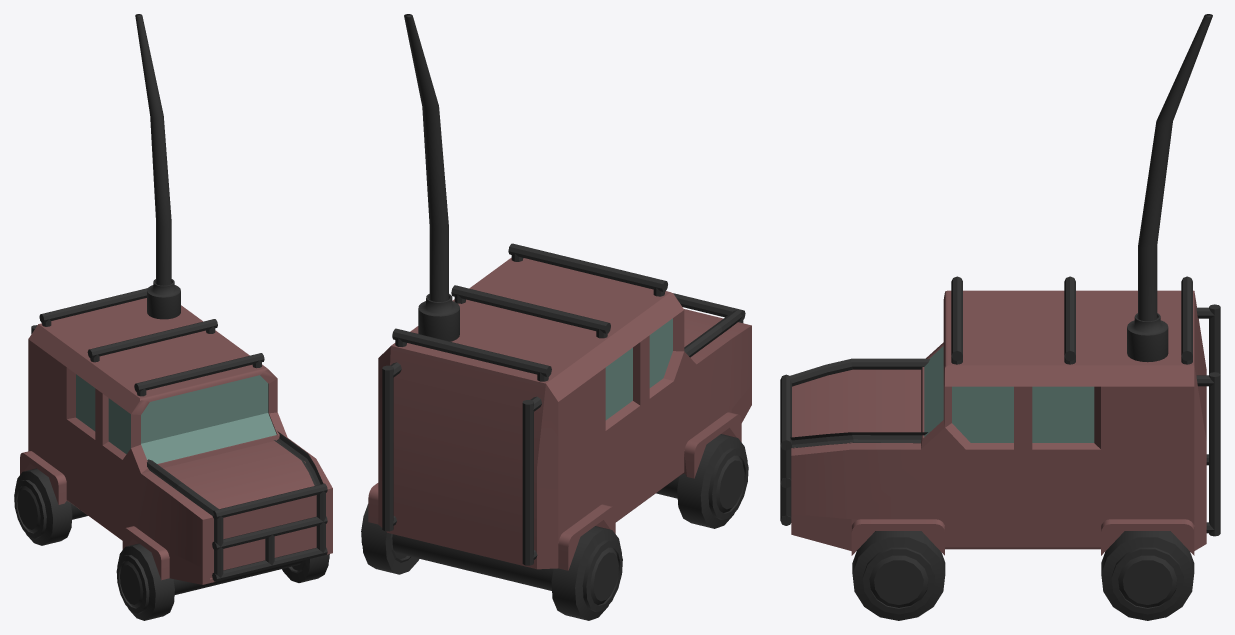
File: car.fbx
The picture shows the model from 3 angles, left to right: view 1: azimuth 30°, elevation 25°; view 2: azimuth 150°, elevation 25°; view 3: azimuth 270°, elevation 25°; orthographic projection. The views are drawn at different scales.
Visible parts, largest first — view 1: Chassis, pCylinder31, Tire BackRight, Tire FrontRight, pCylinder20, pCylinder19, pCylinder12, pCylinder22, pCylinder6, pCylinder5, Tire FrontLeft, pCylinder13 (+2 smaller); view 2: Chassis, pCylinder31, Tire FrontRight, Tire BackRight, pCylinder29, pCylinder27, pCylinder28, pCylinder19, pCylinder20, pCylinder22, Tire BackLeft, pCylinder13 (+1 smaller); view 3: Chassis, pCylinder31, Tire BackLeft, Tire FrontLeft, pCylinder28, pCylinder13, pCylinder14, pCylinder27, pCylinder20, pCylinder22, pCylinder19, pCylinder12.
Boxes of the visible parts, left/top/right/bottom form: Chassis: left=20, top=298, right=332, bottom=584; pCylinder31: left=135, top=14, right=180, bottom=319; Tire BackRight: left=14, top=468, right=72, bottom=545; Tire FrontRight: left=116, top=543, right=174, bottom=620; pCylinder20: left=87, top=319, right=217, bottom=358; pCylinder19: left=134, top=353, right=264, bottom=392; pCylinder12: left=212, top=483, right=327, bottom=519; pCylinder22: left=39, top=288, right=147, bottom=322; pCylinder6: left=212, top=516, right=327, bottom=550; pCylinder5: left=212, top=547, right=327, bottom=581; Tire FrontLeft: left=282, top=554, right=329, bottom=582; pCylinder13: left=147, top=459, right=218, bottom=515; Chassis: left=368, top=257, right=751, bottom=570; pCylinder31: left=404, top=14, right=459, bottom=341; Tire FrontRight: left=677, top=434, right=748, bottom=528; Tire BackRight: left=551, top=526, right=622, bottom=620; pCylinder29: left=392, top=534, right=553, bottom=590; pCylinder27: left=522, top=396, right=541, bottom=565; pCylinder28: left=382, top=362, right=401, bottom=531; pCylinder19: left=508, top=243, right=667, bottom=291; pCylinder20: left=451, top=285, right=610, bottom=333; pCylinder22: left=392, top=328, right=551, bottom=376; Tire BackLeft: left=361, top=504, right=419, bottom=574; pCylinder13: left=684, top=310, right=742, bottom=357; Chassis: left=791, top=290, right=1206, bottom=555; pCylinder31: left=1127, top=14, right=1212, bottom=362; Tire BackLeft: left=1101, top=531, right=1194, bottom=620; Tire FrontLeft: left=852, top=531, right=945, bottom=620; pCylinder28: left=1196, top=372, right=1220, bottom=536; pCylinder13: left=787, top=358, right=929, bottom=386; pCylinder14: left=790, top=432, right=927, bottom=448; pCylinder27: left=1196, top=304, right=1220, bottom=465; pCylinder20: left=1064, top=276, right=1075, bottom=361; pCylinder22: left=1181, top=276, right=1192, bottom=361; pCylinder19: left=951, top=276, right=962, bottom=361; pCylinder12: left=780, top=374, right=791, bottom=450.
Bounding box in the file's own units: 3.37 × 8.24 × 5.67.
